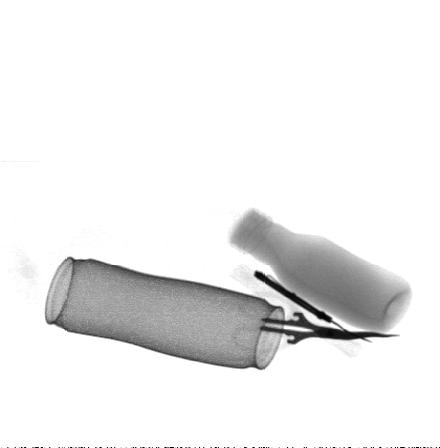Knife: (252, 271, 373, 344)
Scissors: (230, 291, 400, 353)
